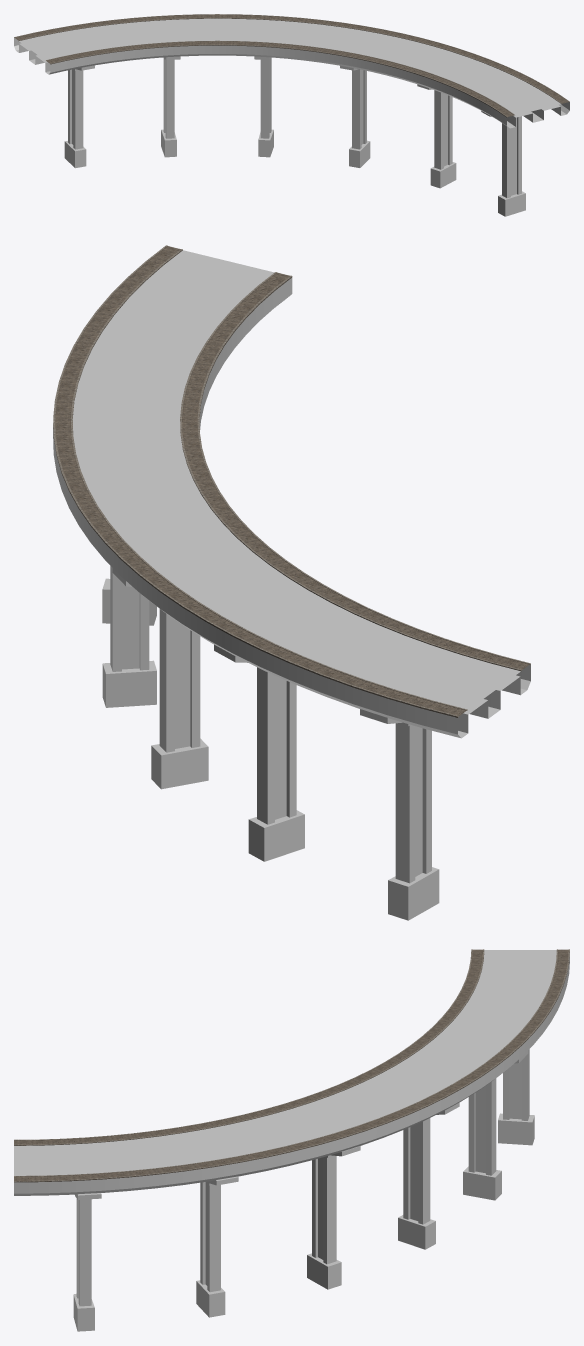
Rendered from overpass3.fbx.
3 views of the same model, one above another, from view 1: azimuth 30°, elevation 25°; view 2: azimuth 150°, elevation 25°; view 3: azimuth 270°, elevation 25° (orthographic). The views are drawn at different scales.
Parts seen in each view (by area): view 1: polySurface753; view 2: polySurface753; view 3: polySurface753.
Part boxes in pixels (bbox=[...]): polySurface753: bbox=[14, 14, 569, 216]; polySurface753: bbox=[53, 245, 530, 920]; polySurface753: bbox=[14, 949, 569, 1331].
Size of the model in its own units: 83.5 by 27.46 by 84.51.
